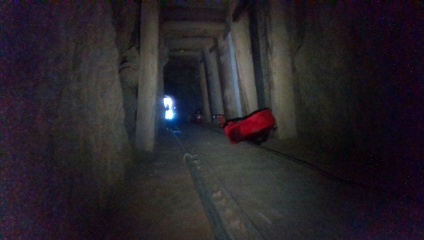backpack: (220, 108, 278, 145)
drill: (209, 113, 226, 132)
fire_extinguisher: (195, 108, 204, 127)
